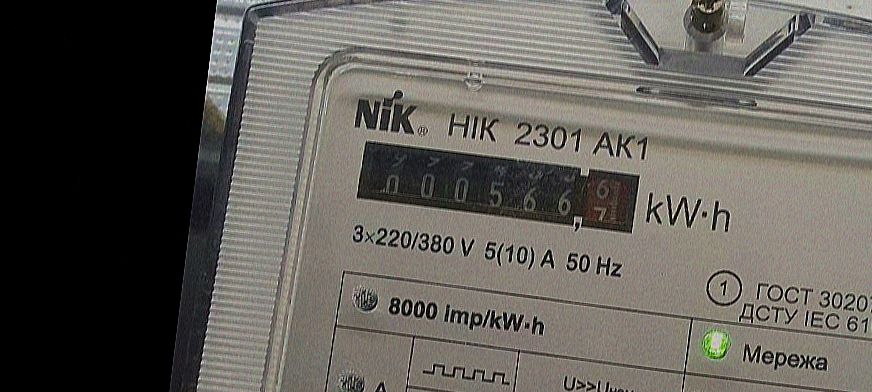0: (451, 174, 472, 205), (417, 168, 437, 199), (381, 169, 403, 194)
5: (485, 178, 507, 209)
6: (554, 184, 576, 217), (518, 183, 540, 213), (594, 176, 613, 203)
7: (590, 204, 608, 223)
9: (388, 148, 409, 170)
screen: (346, 131, 646, 242)
